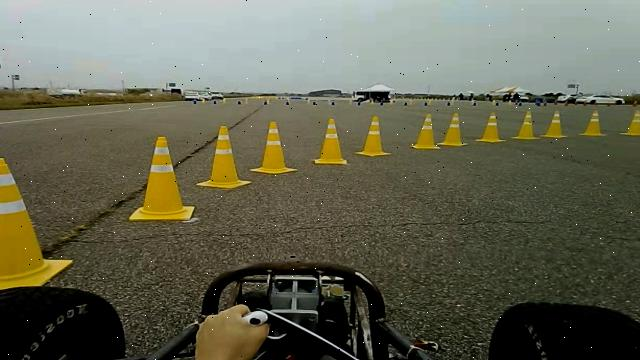yellow cone: (0, 156, 74, 292), (129, 136, 196, 221), (196, 125, 252, 189), (250, 121, 298, 174), (314, 118, 348, 164), (355, 115, 392, 156), (411, 114, 442, 150), (438, 112, 468, 147), (476, 111, 506, 143), (512, 110, 540, 140), (541, 110, 568, 138), (579, 109, 607, 136), (620, 109, 640, 136)
